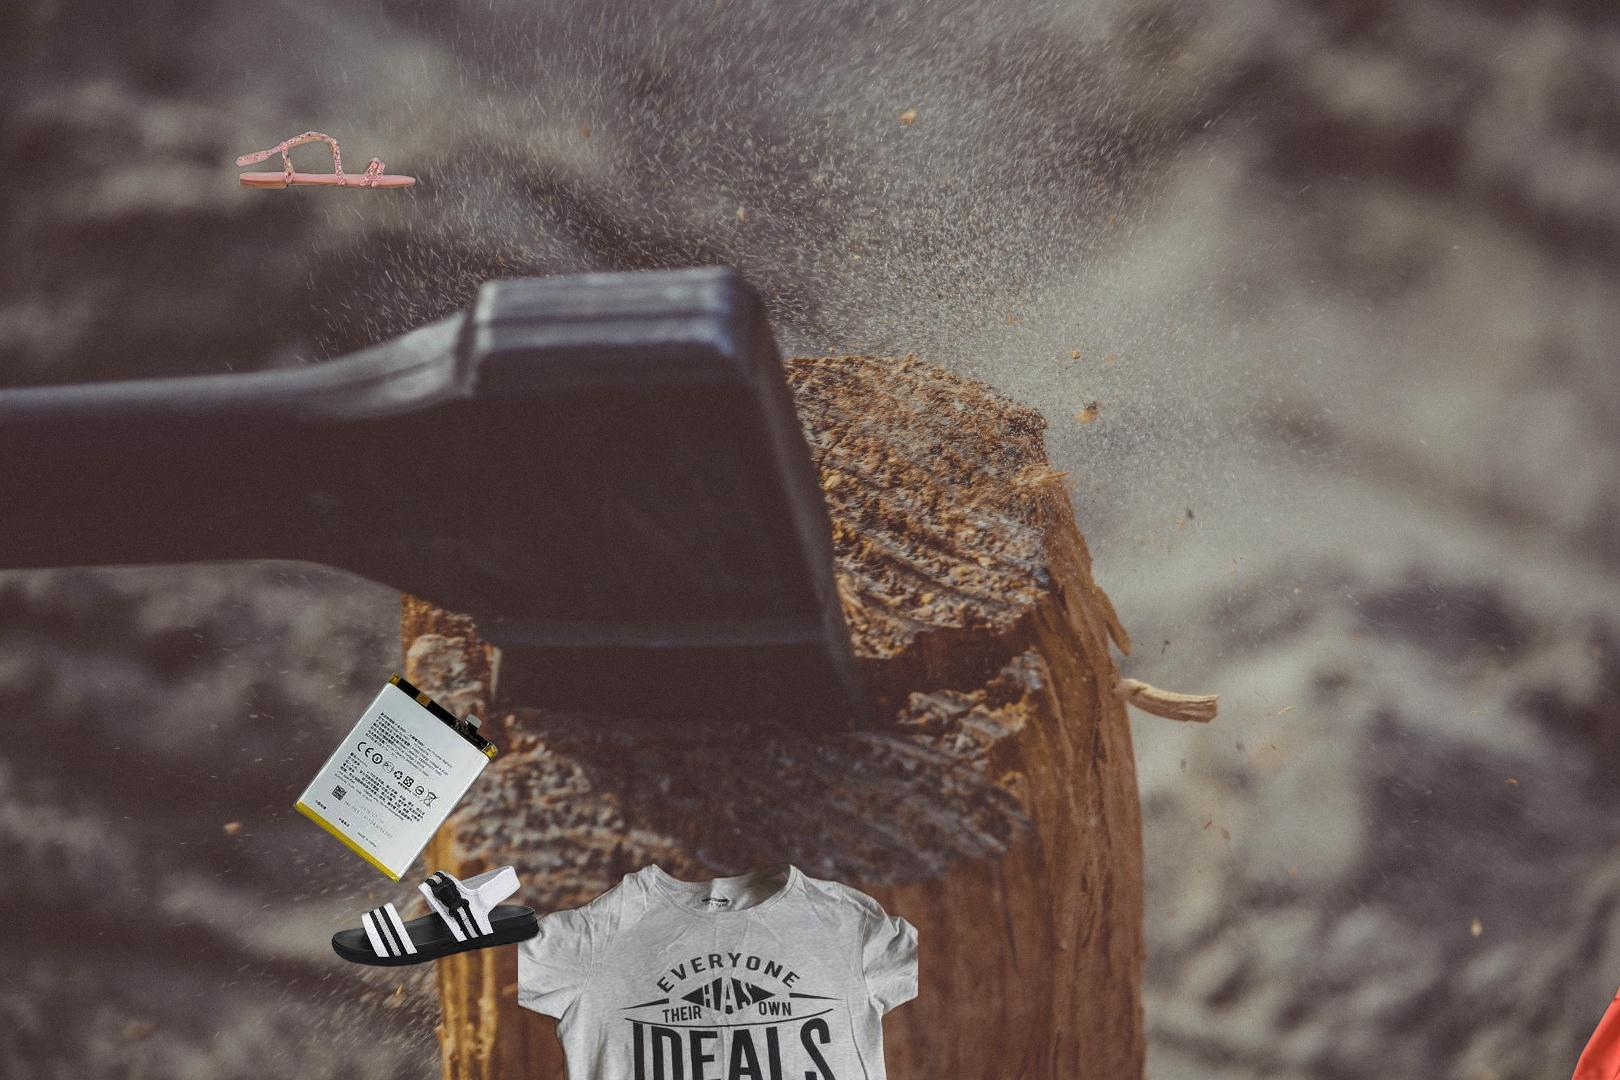battery: (289, 670, 501, 887)
clothes: (518, 858, 918, 1080), (1532, 792, 1620, 1080)
shoes: (329, 862, 542, 970), (231, 128, 419, 192)
